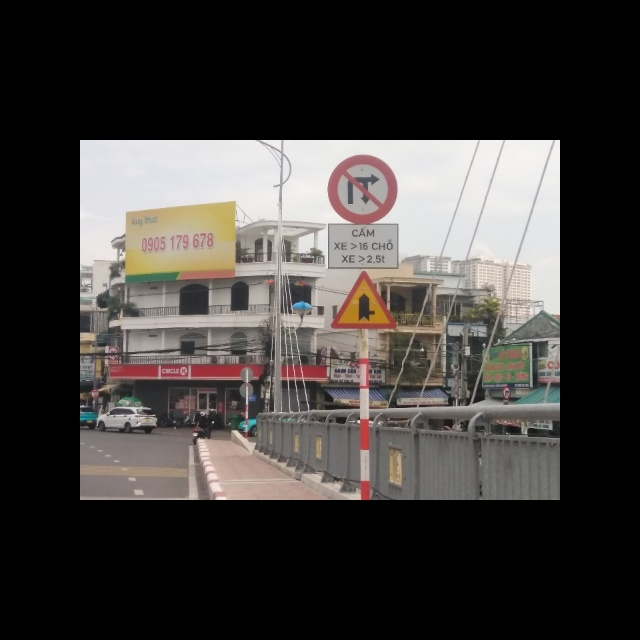Cấm quay đầu và rẽ phải: (326, 153, 398, 223)
Giao nhau với đường không ưu tiên: (331, 271, 400, 330)
